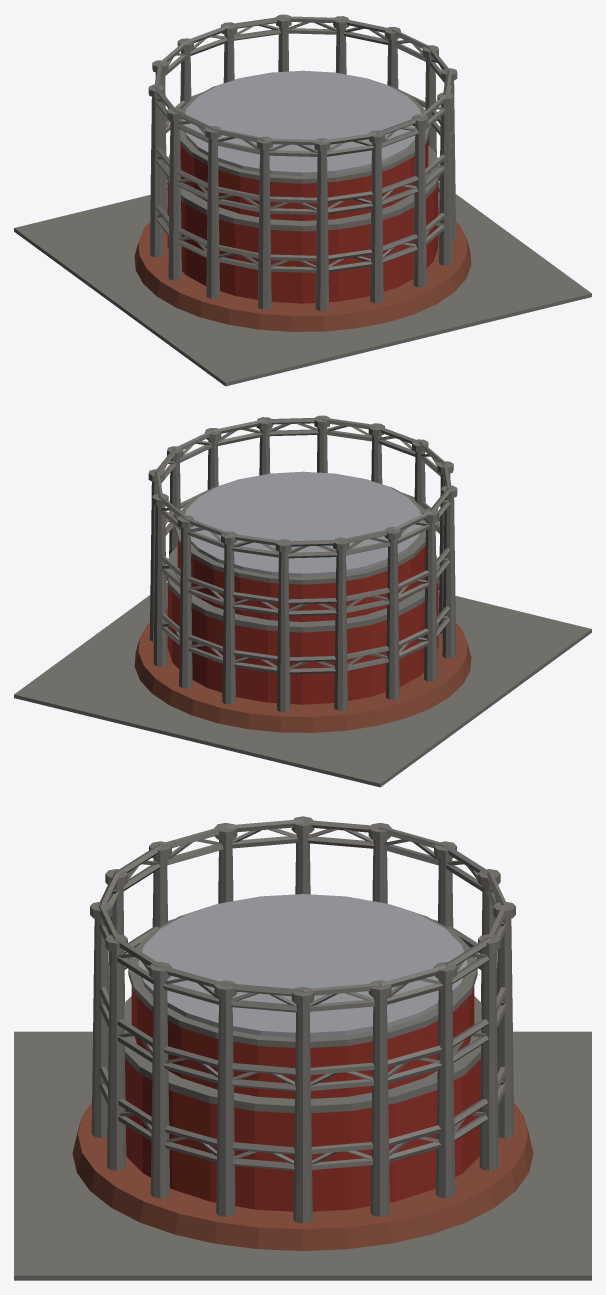
File: gasholder.glb
3 renders of one model, top to bottom at view 1: azimuth 30°, elevation 25°; view 2: azimuth 150°, elevation 25°; view 3: azimuth 270°, elevation 25°, orthographic. The views are drawn at different scales.
Parts seen in each view (by area): view 1: gasholder; view 2: gasholder; view 3: gasholder.
Part boxes in pixels (x1,y1,x2,y2): gasholder: (14,14,591,386); gasholder: (14,415,591,787); gasholder: (14,816,591,1280).
Size of the model in its own units: 86 by 41.7 by 86.
